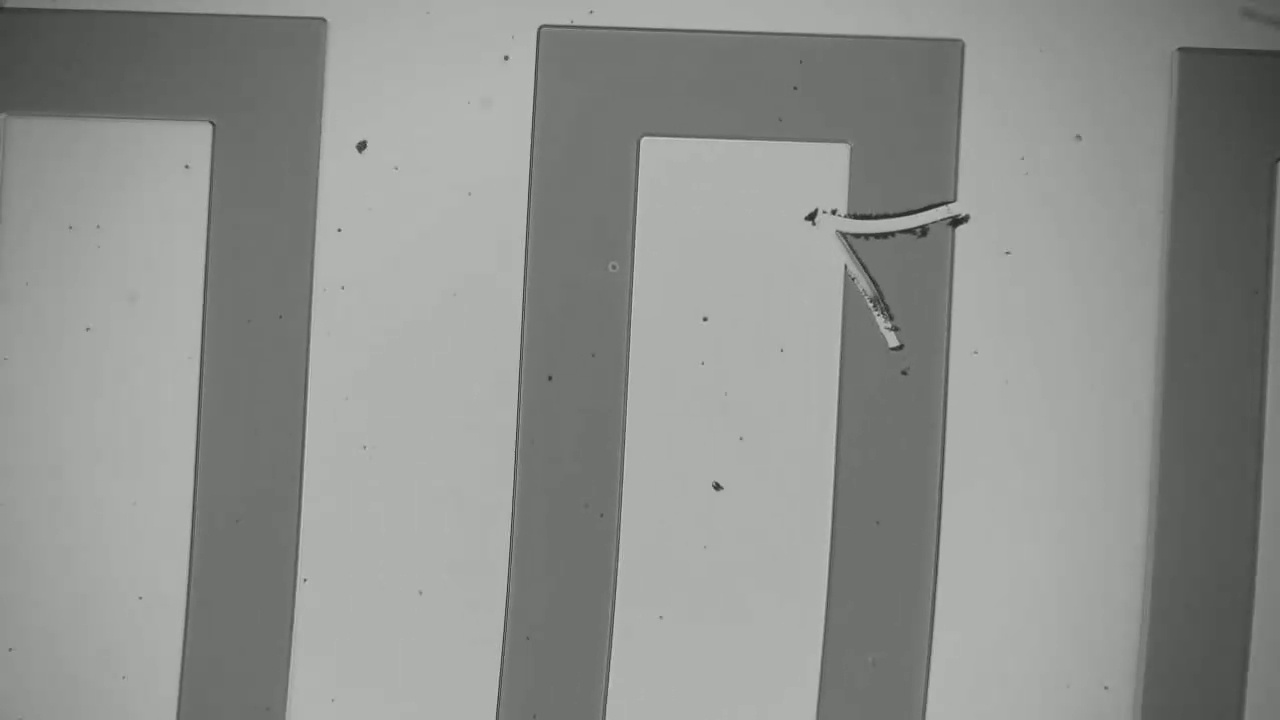Short_circuit: (811, 179, 996, 269)
